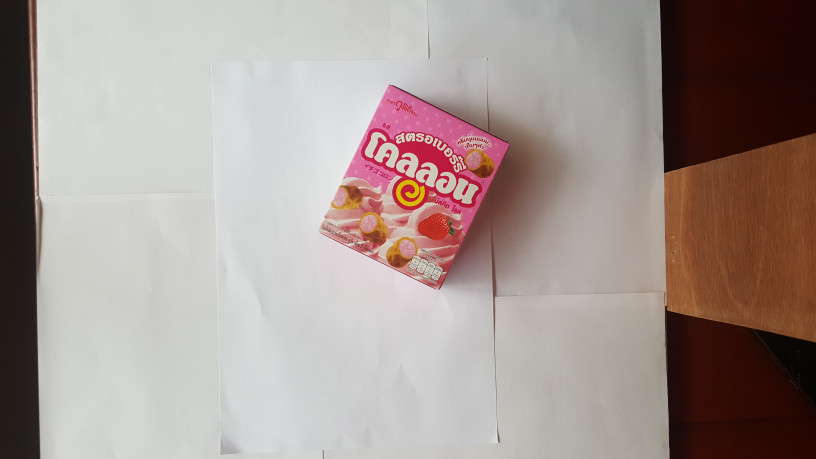collon-strawberry: (316, 80, 513, 293)
